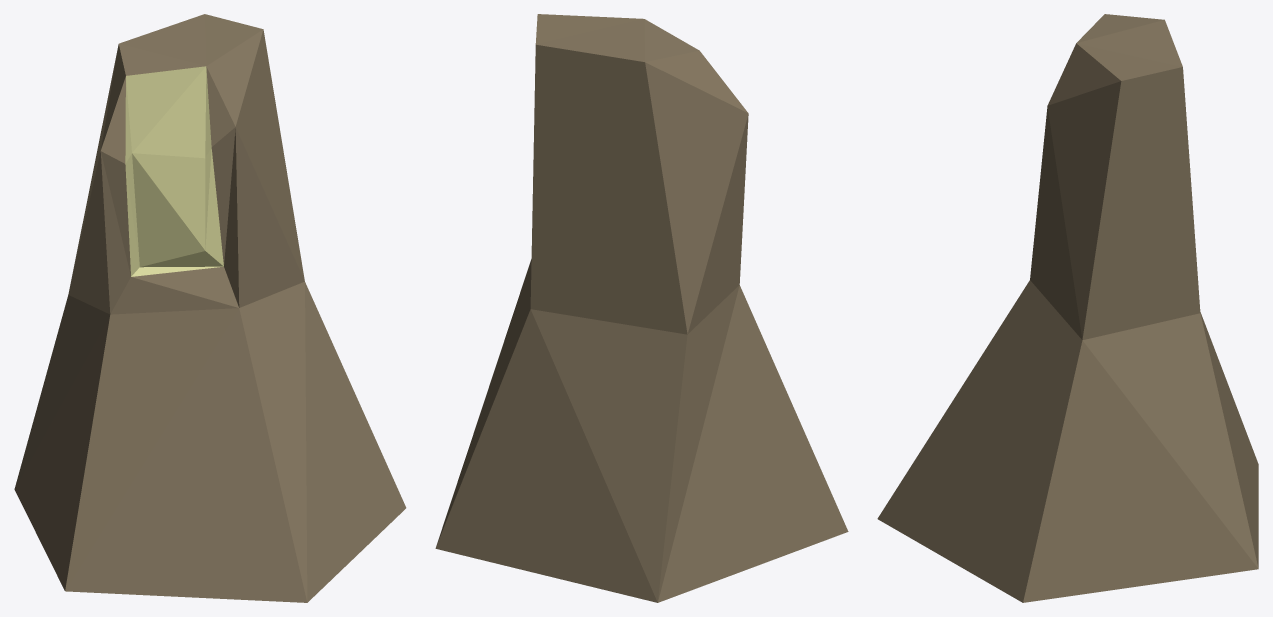
File: Apple_0_4.fbx
3 views of the same model, side by side, from view 1: azimuth 30°, elevation 25°; view 2: azimuth 150°, elevation 25°; view 3: azimuth 270°, elevation 25° (orthographic). The views are drawn at different scales.
Parts seen in each view (by area): view 1: Apple_0_4; view 2: Apple_0_4; view 3: Apple_0_4.
Boxes of the visible parts, left/top/right/bottom form: Apple_0_4: left=14, top=14, right=406, bottom=602; Apple_0_4: left=435, top=14, right=848, bottom=602; Apple_0_4: left=877, top=14, right=1258, bottom=602.
Size of the model in its own units: 56.41 by 73.79 by 53.62.
